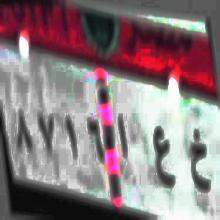1: (63, 112, 79, 166)
6: (85, 116, 104, 170)
7: (36, 106, 56, 162)
8: (13, 104, 34, 163)
ain: (150, 122, 176, 199)
alif: (117, 108, 131, 176)
khaa: (187, 119, 213, 203)
